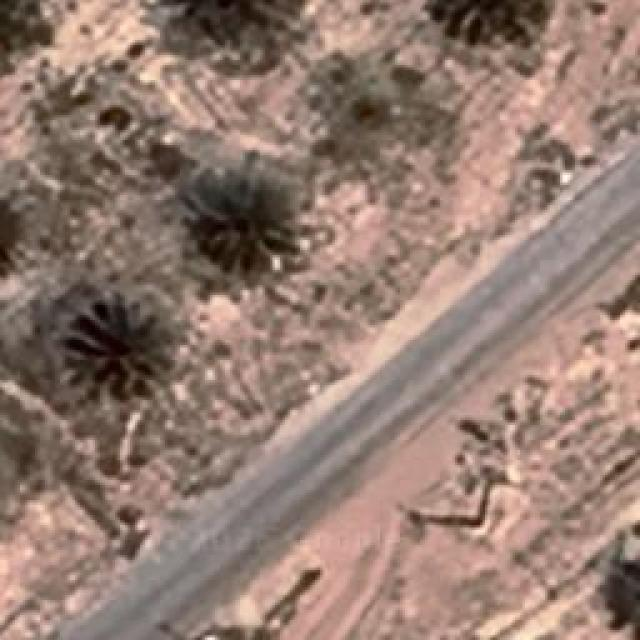PalmTree: (53, 51, 119, 350), (185, 170, 293, 282), (170, 0, 288, 56), (438, 0, 552, 40), (608, 542, 640, 640), (618, 547, 640, 640)
